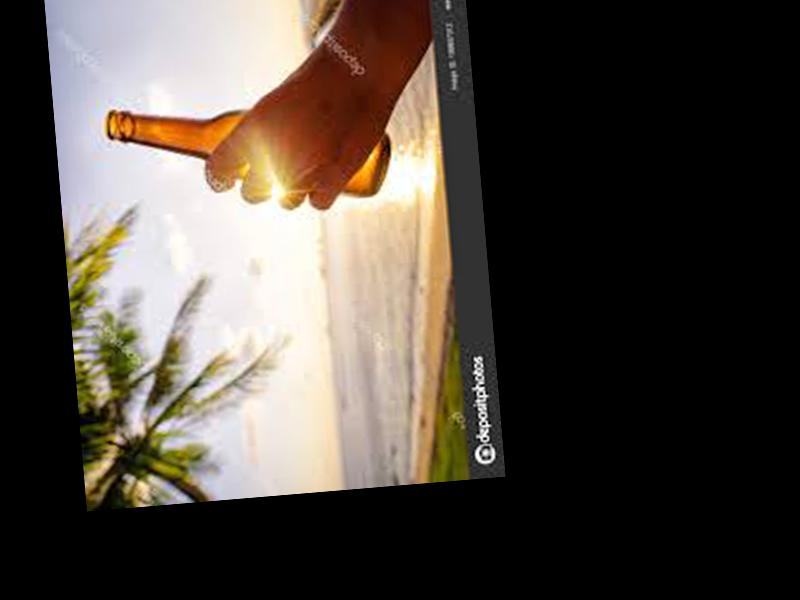Beer: (104, 84, 396, 216)
